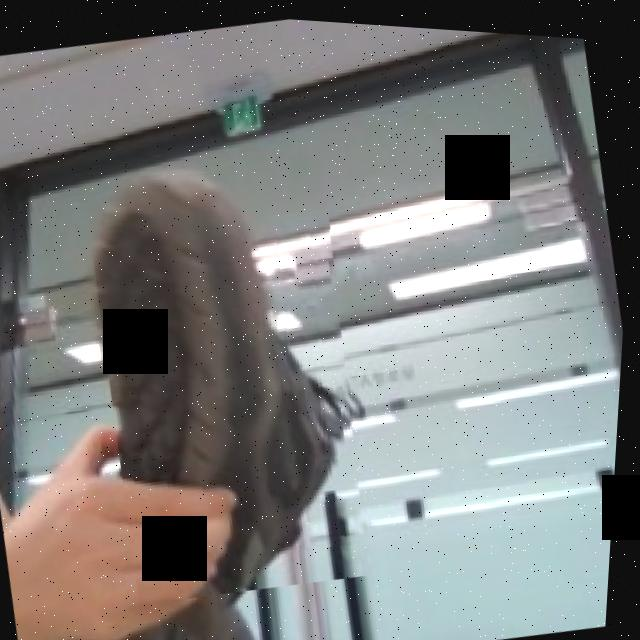shoe: (67, 137, 404, 614)
